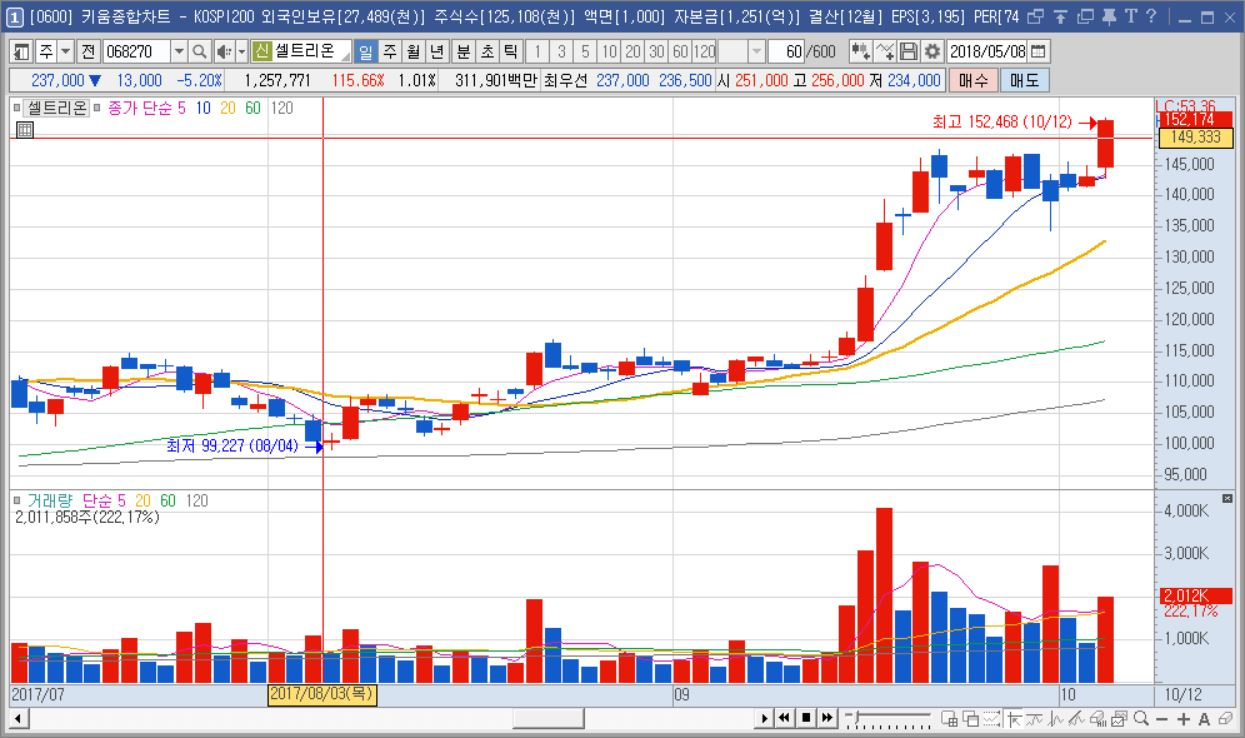up: (802, 115, 1116, 684)
